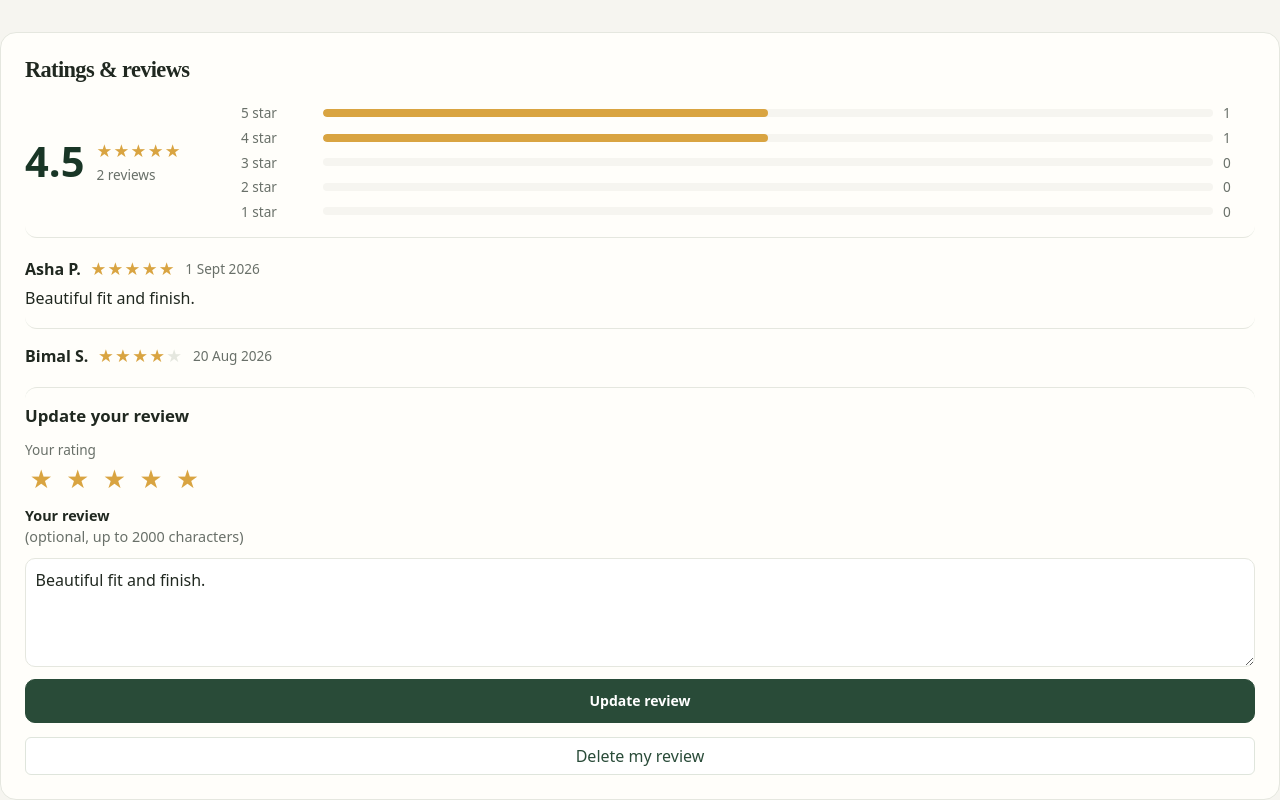
ProductReviewsSection › offers the delete action once the customer has reviewed the product
Check: the button "Update review" is shown, box top-left (25, 679), bottom-right (1255, 723)
Click the button "Delete my review" at (640,756), box top-left (25, 737), bottom-right (1255, 775)
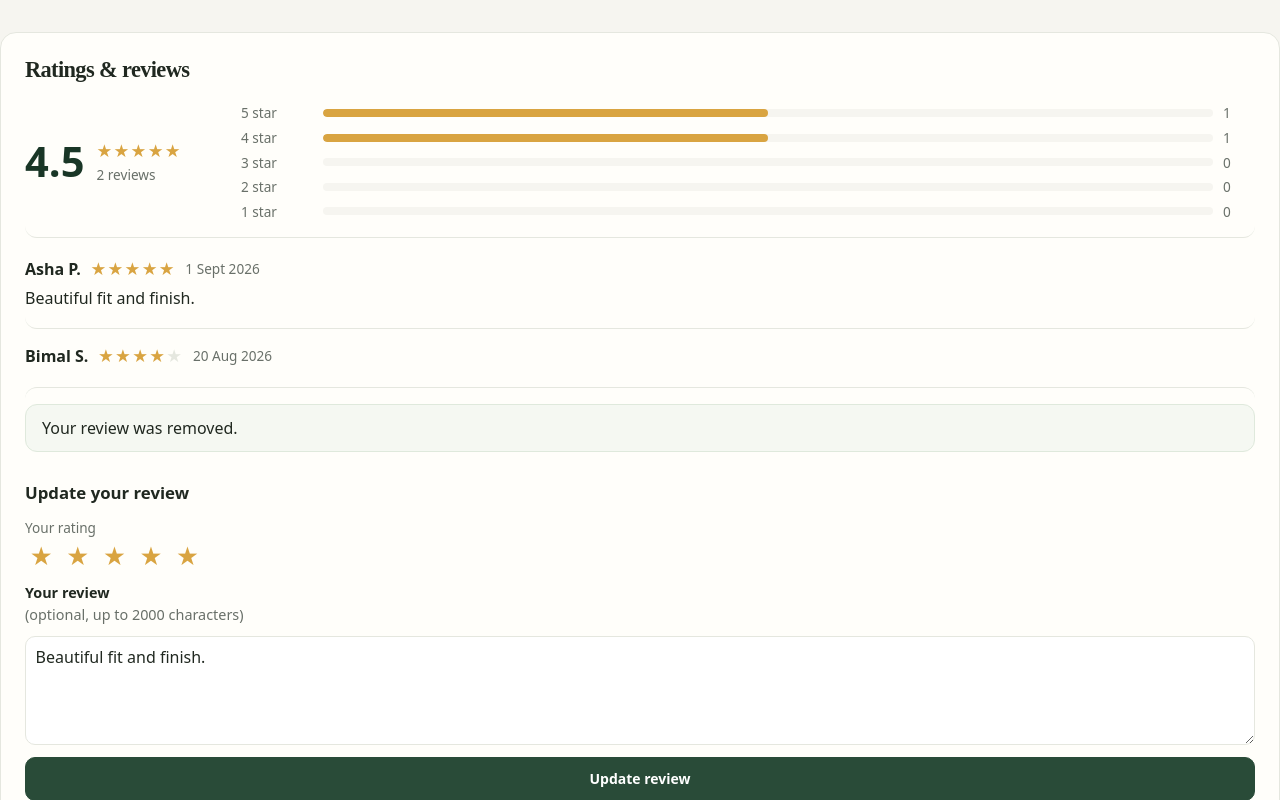
Check: the text "Your review was removed." is shown, box top-left (25, 404), bottom-right (1255, 452)
